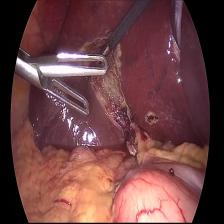Grasper: (23, 47, 114, 127)
